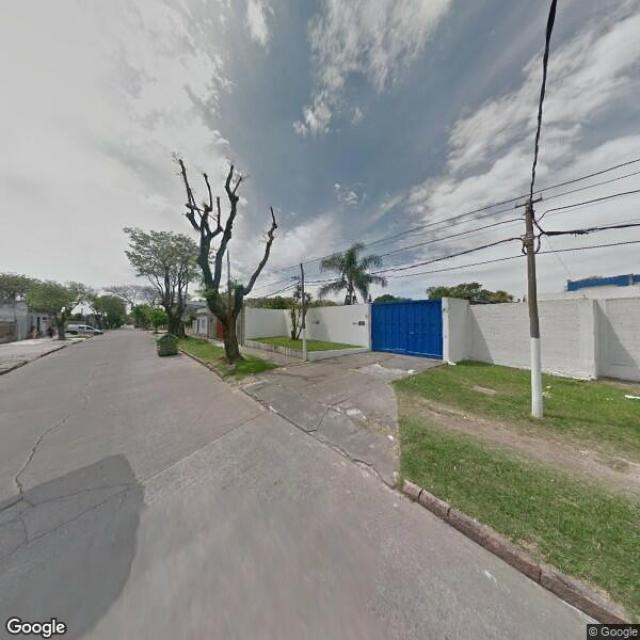garbage container: (153, 330, 185, 363)
